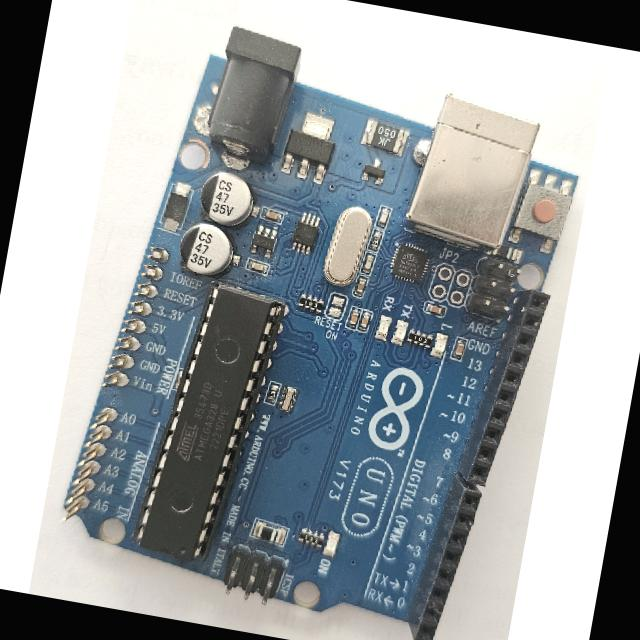missing_analog_pins: (53, 239, 178, 531)
